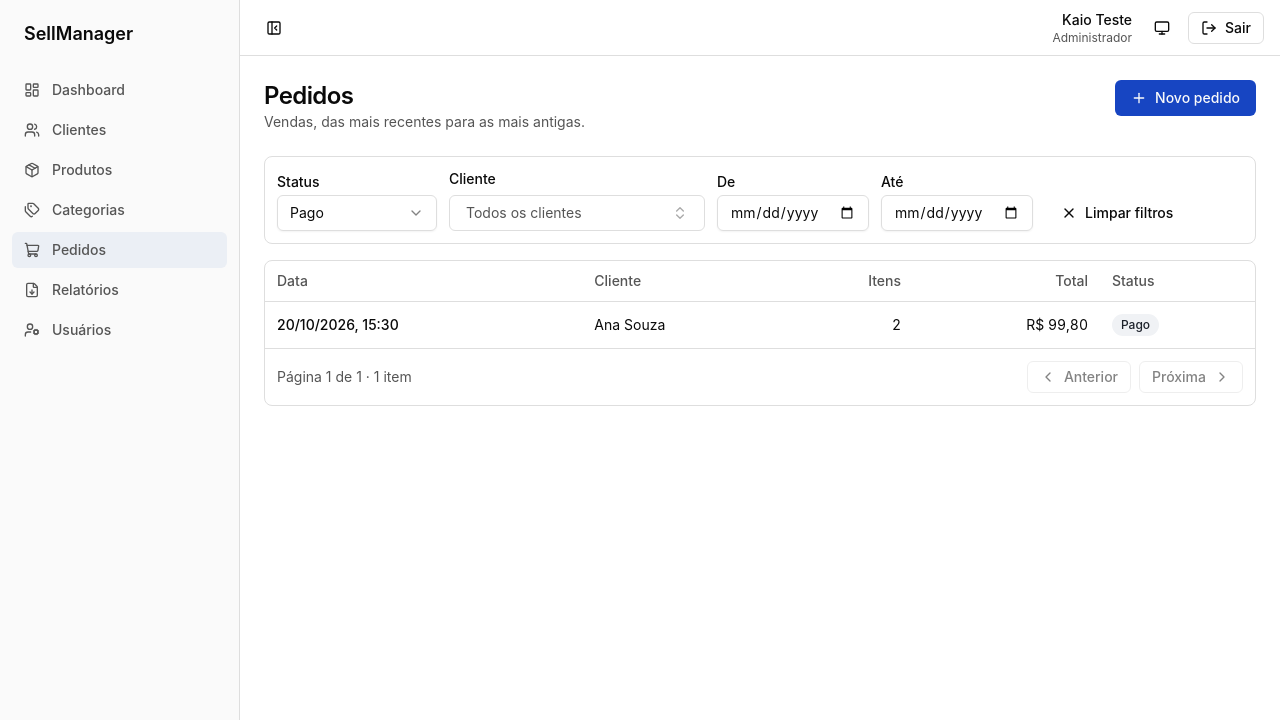
Test: Pedidos › filtra por status (URL ↔ API) e mostra o badge de cada status
Expected: the text "Pago" in the row of "20/10/2026, 15:30" is shown, [1121,316,1150,332]
Click the dropdown named "Status": click(357, 213) [277,195,437,231]
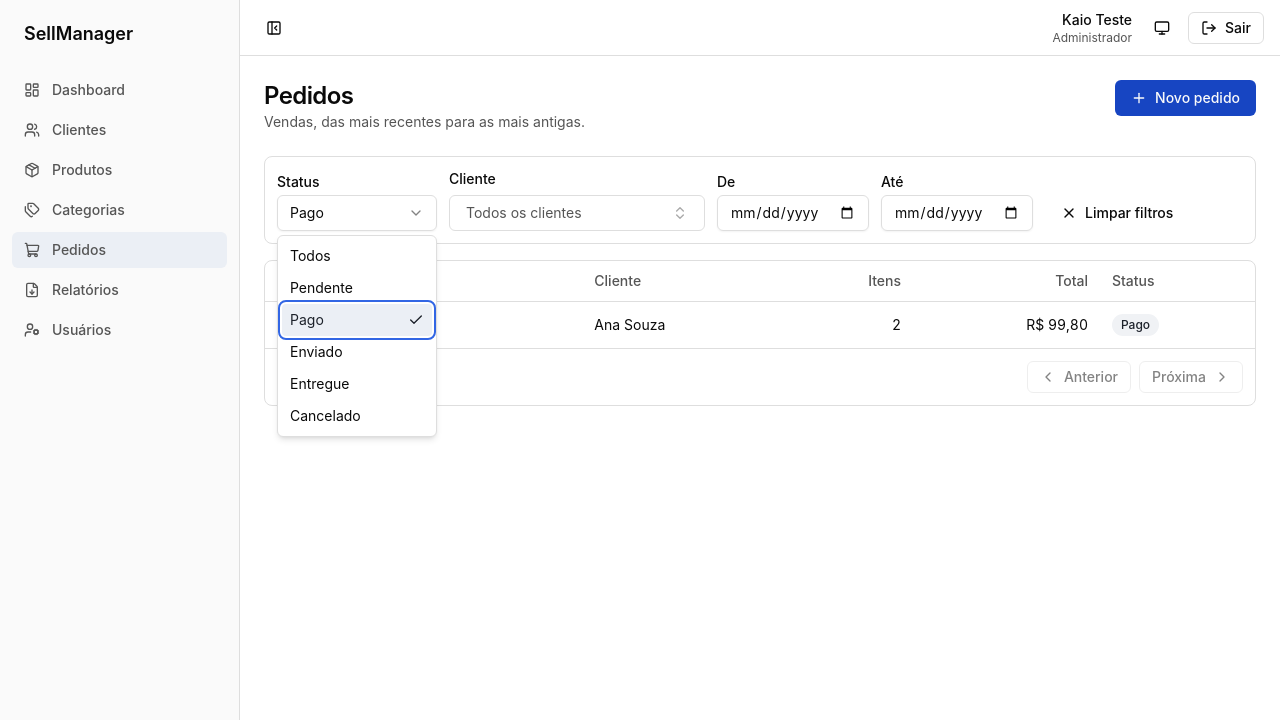
Click the option "Enviado": click(316, 352) [290,343,343,360]
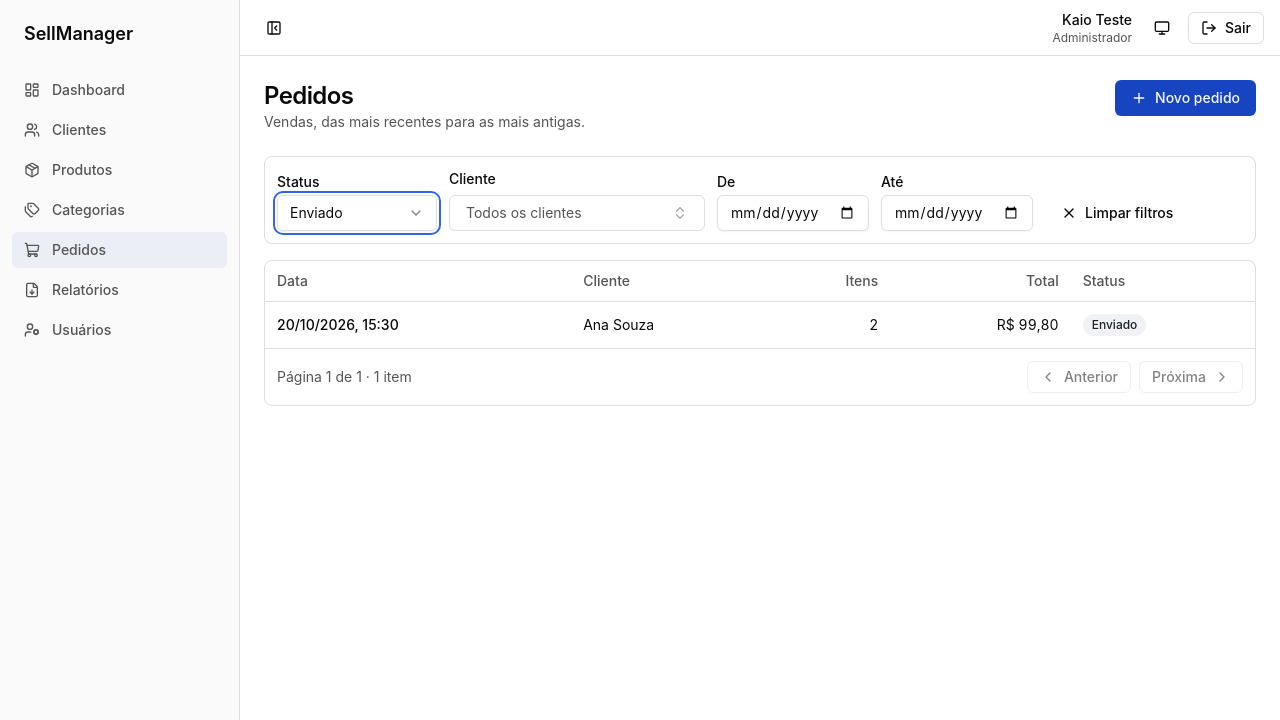
Expected: the text "Enviado" in the row of "20/10/2026, 15:30" is shown, [1092,316,1137,332]
